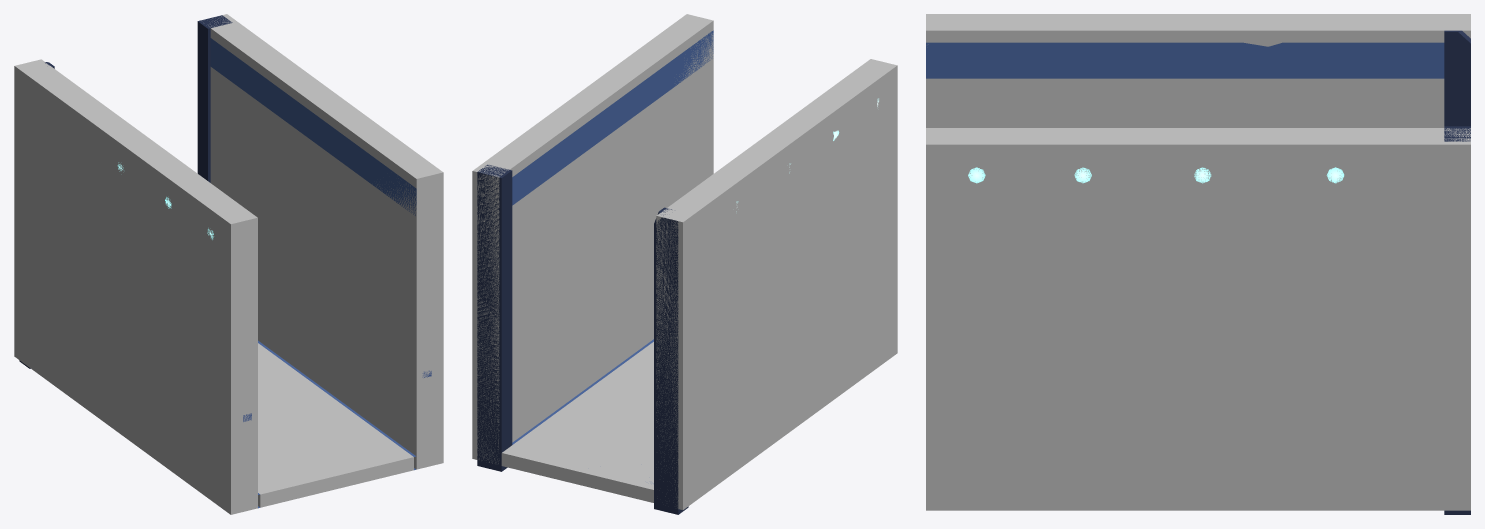
The model's file is SM_Bridge_End.fbx.
The picture shows the model from 3 angles, left to right: view 1: azimuth 30°, elevation 25°; view 2: azimuth 150°, elevation 25°; view 3: azimuth 270°, elevation 25°; orthographic projection. The views are drawn at different scales.
Visible parts, largest first — view 1: SM_Bridge_End_ConvexHulls, SM_Bridge_End; view 2: SM_Bridge_End_ConvexHulls, SM_Bridge_End; view 3: SM_Bridge_End_ConvexHulls, SM_Bridge_End.
Part boxes in pixels (left/top/right/bottom): SM_Bridge_End_ConvexHulls: left=14, top=14, right=443, bottom=514; SM_Bridge_End: left=19, top=15, right=431, bottom=508; SM_Bridge_End_ConvexHulls: left=472, top=14, right=897, bottom=509; SM_Bridge_End: left=477, top=30, right=878, bottom=514; SM_Bridge_End_ConvexHulls: left=926, top=14, right=1470, bottom=510; SM_Bridge_End: left=926, top=30, right=1470, bottom=514.
Bounding box in the file's own units: 233 × 410 × 310.
2 materials, 1 textured.
